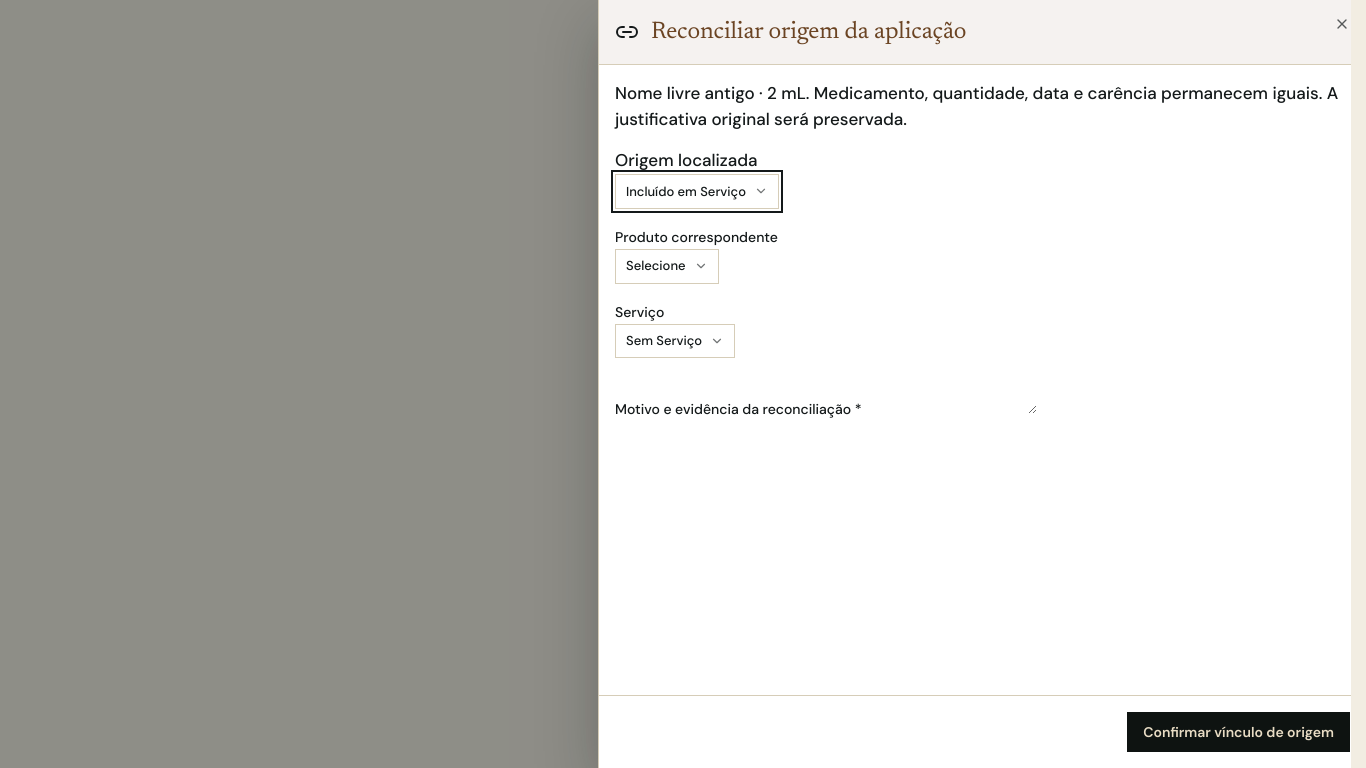
Test case: localiza erro da API e conserva medicamento, ciência e motivo
Click the dropdown named "Origem localizada" at x=697, y=191, box 615,174 -> 779,209
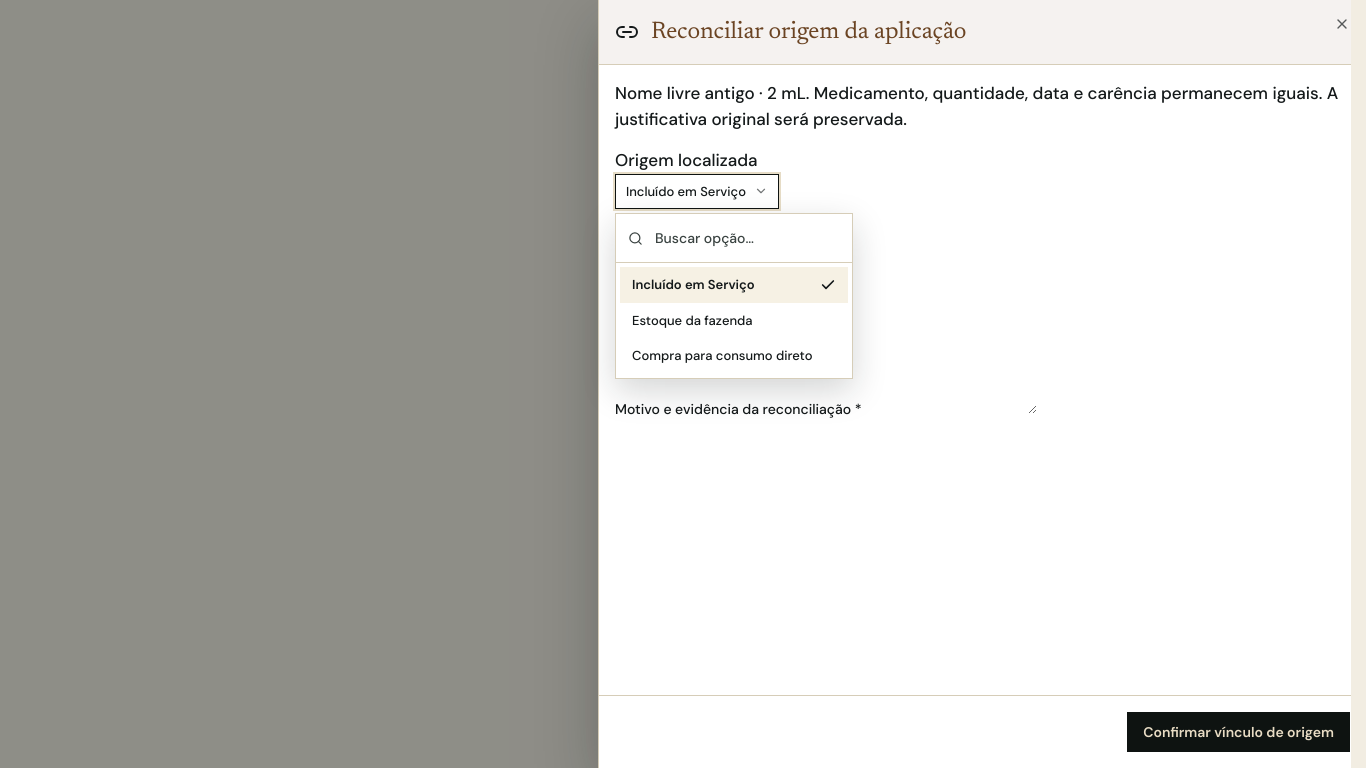
Click the option "Estoque da fazenda" at x=692, y=320, box 632,312 -> 753,328
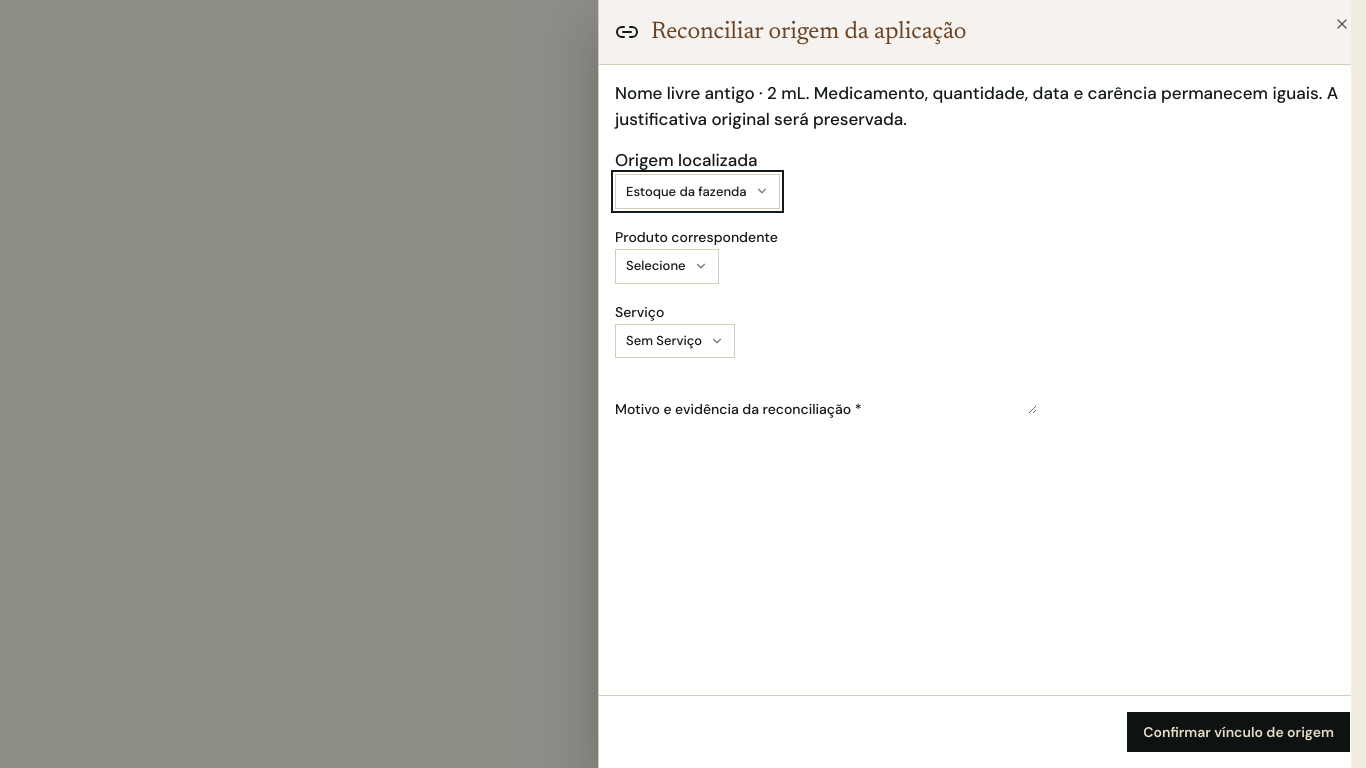
Click the dropdown named "Produto correspondente" at x=667, y=266, box 615,249 -> 718,284
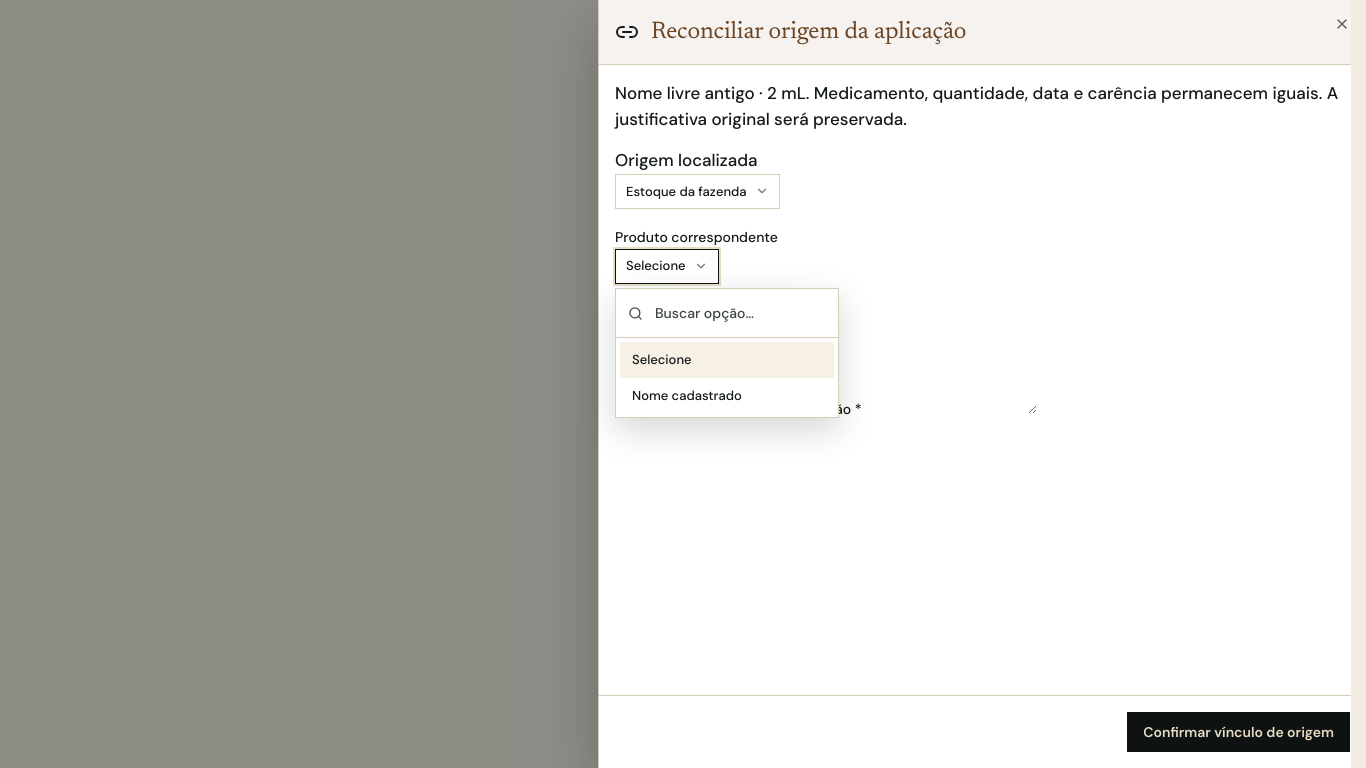
Click the option "Nome cadastrado" at x=687, y=395, box 632,386 -> 742,404
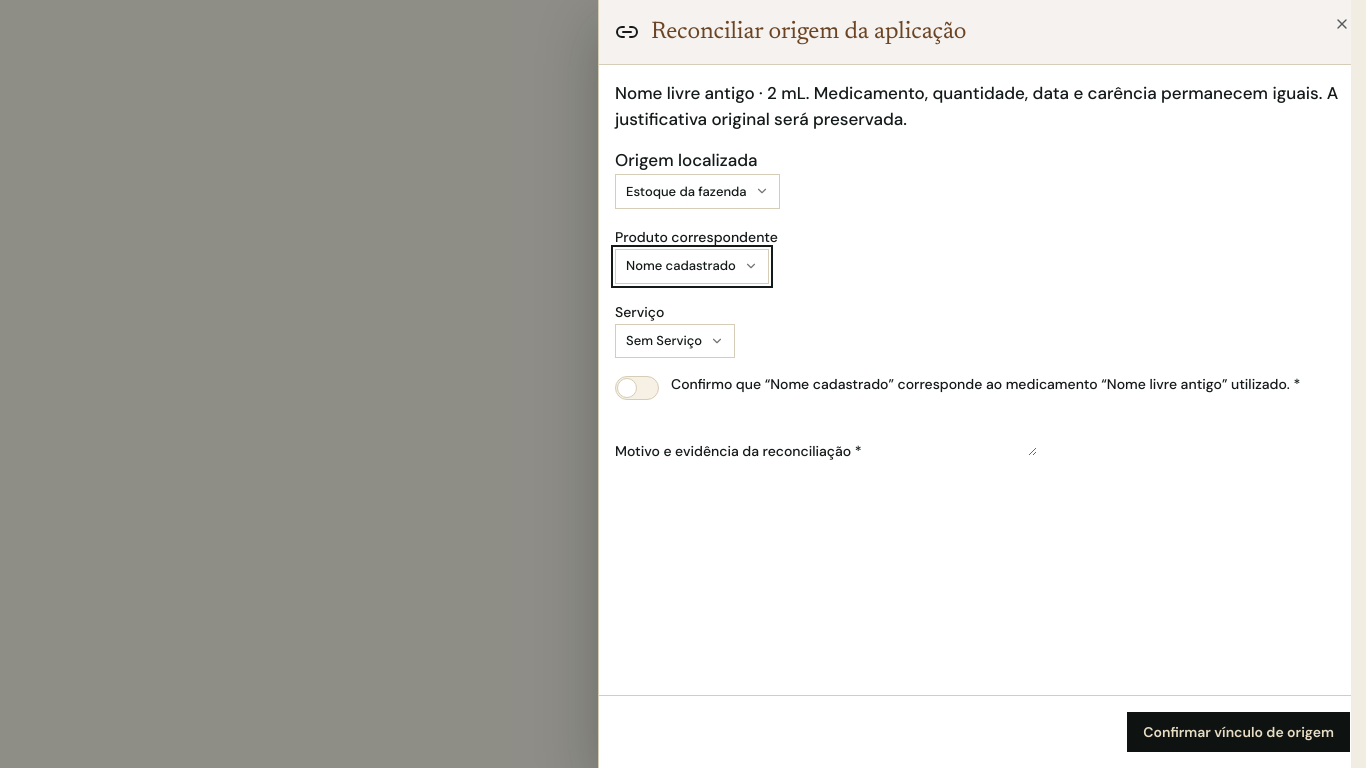
Type "Nota e bula conferidas" into the text box labelled "Motivo e evidência da reconciliação" at x=949, y=436, box 862,416 -> 1037,456
Click the switch at x=982, y=387, box 615,374 -> 1350,400
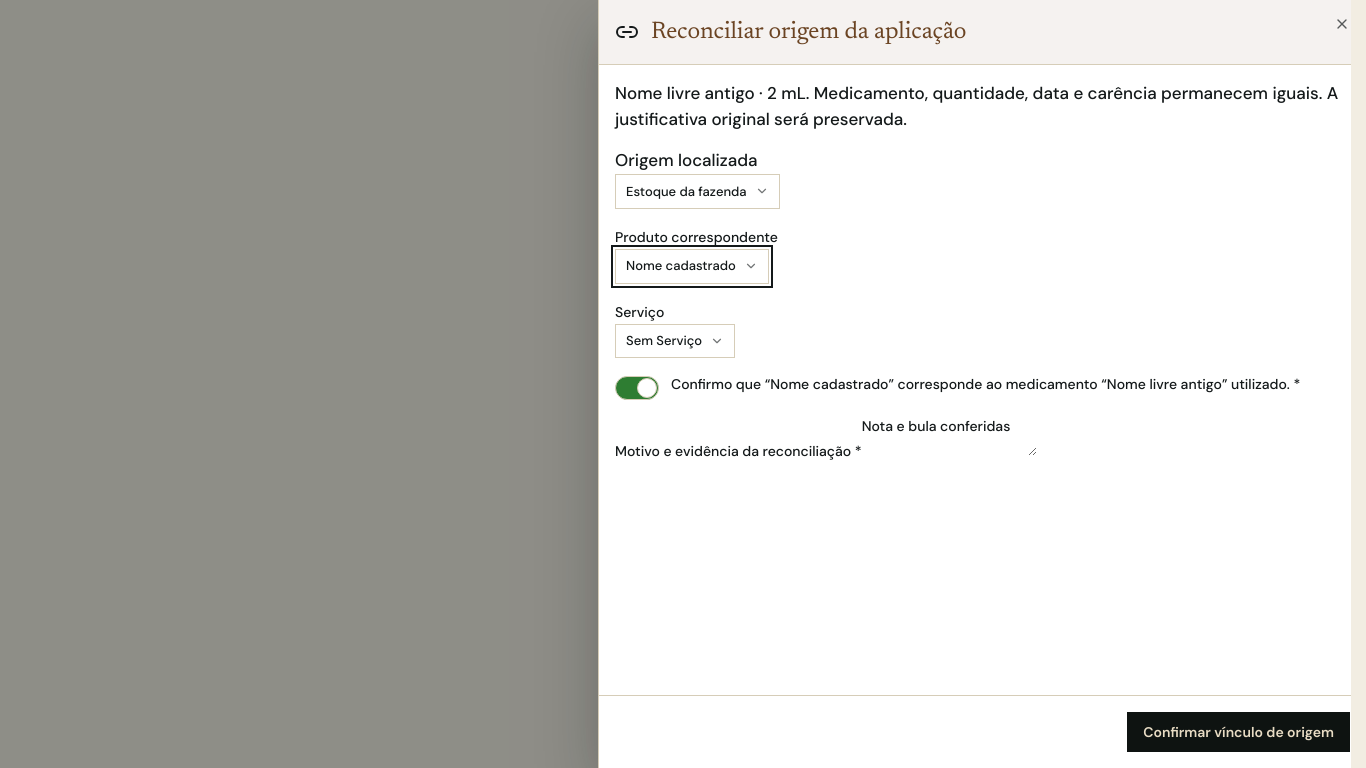
Submit the form with id "reconciliar-origem", box 615,81 -> 1350,463
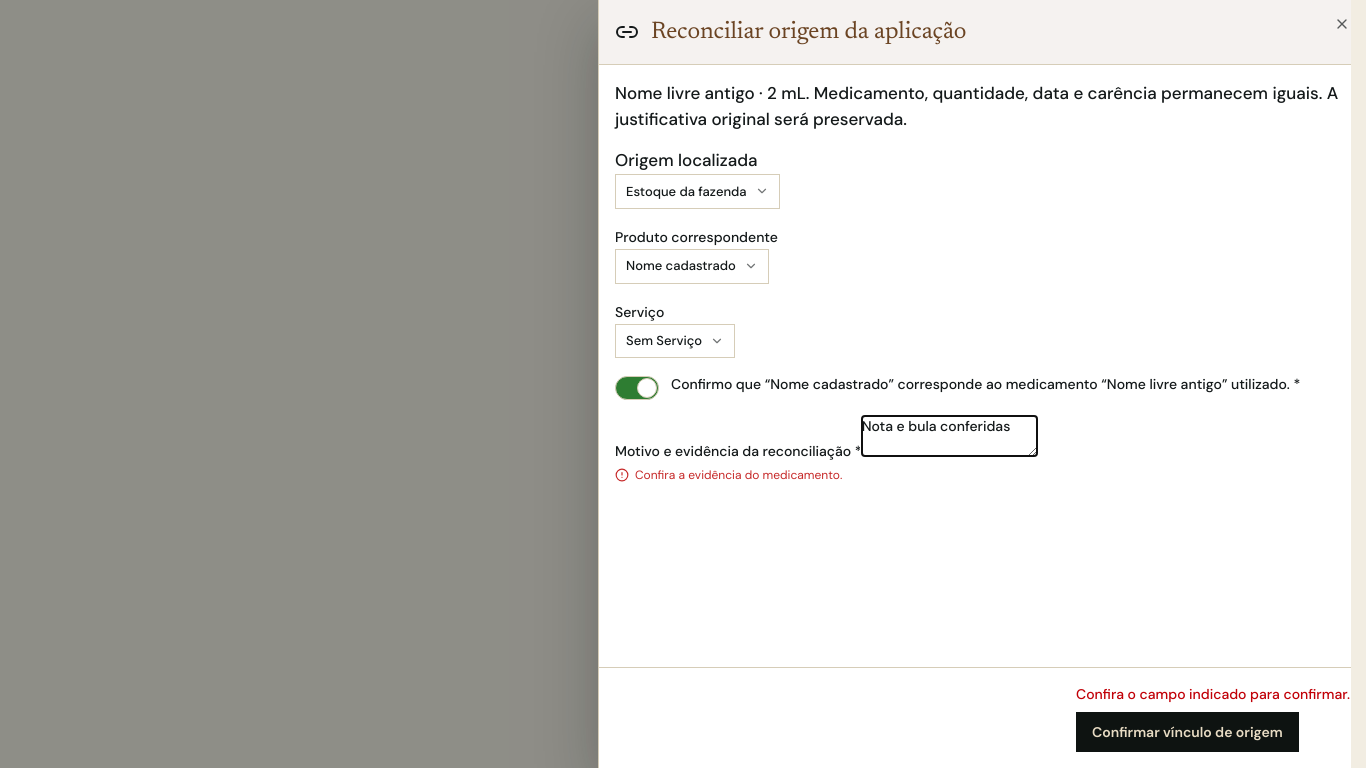
Expected: the dropdown named "Produto correspondente" holds "p1", 615,249 -> 769,284
Expected: the switch is checked, 615,374 -> 1350,400
Expected: the text "Confira a evidência do medicamento." is shown once, 615,467 -> 842,483
